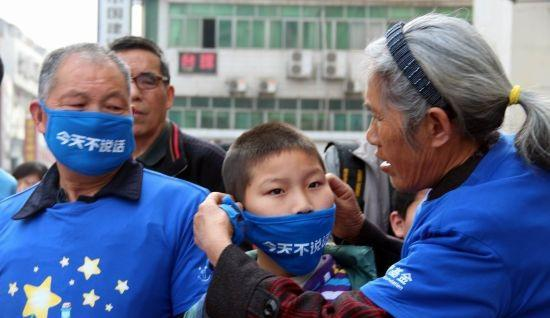NONE: (363, 95, 440, 190), (110, 59, 171, 135)
OK: (55, 84, 137, 166)
WRONG: (249, 168, 333, 252)
